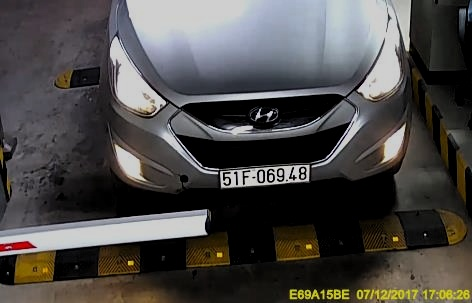plate: (211, 160, 313, 190)
